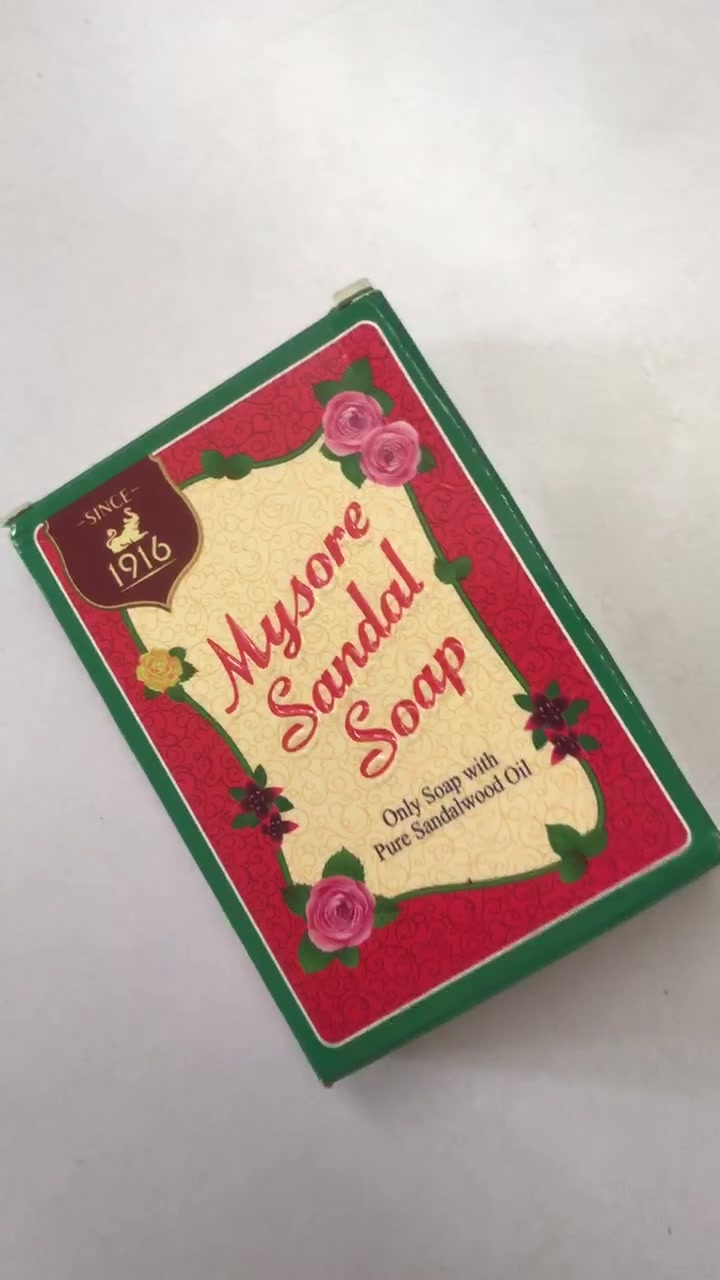mysore sandal soap: (6, 289, 720, 1088)
